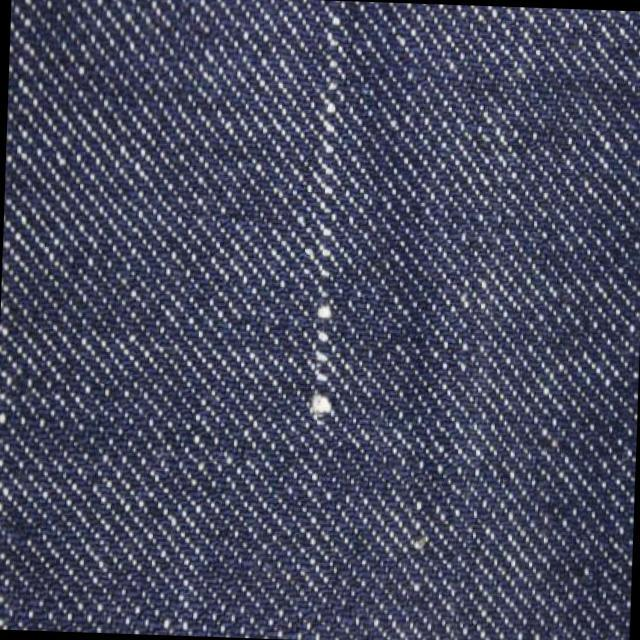Warp_Weft: (306, 13, 344, 427)
